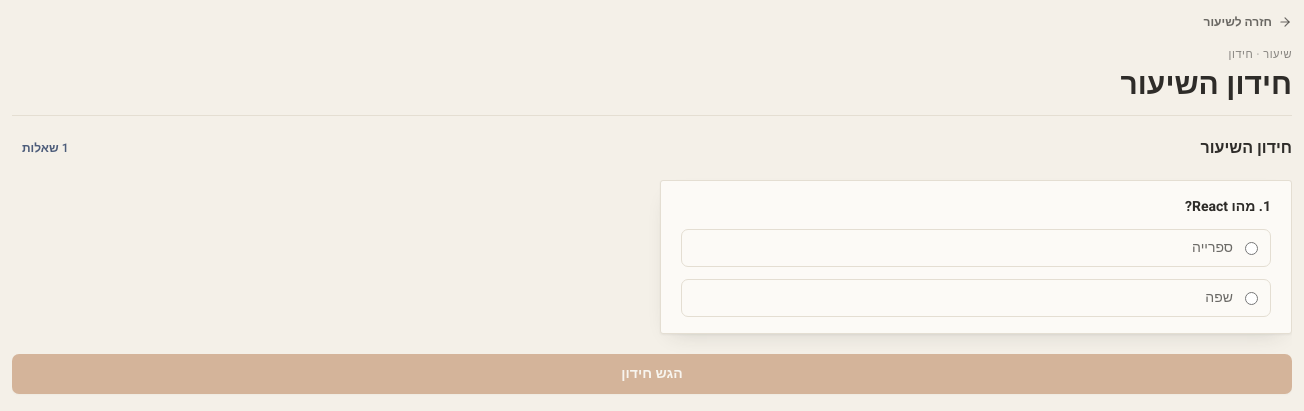
it: QuizPage › disables submit until every question is answered
Check: the button "הגש חידון" is disabled, box [12,354,1292,394]
Step 1. Click the radio button labelled "ספרייה" → [1252, 248], box [1245,242,1258,255]
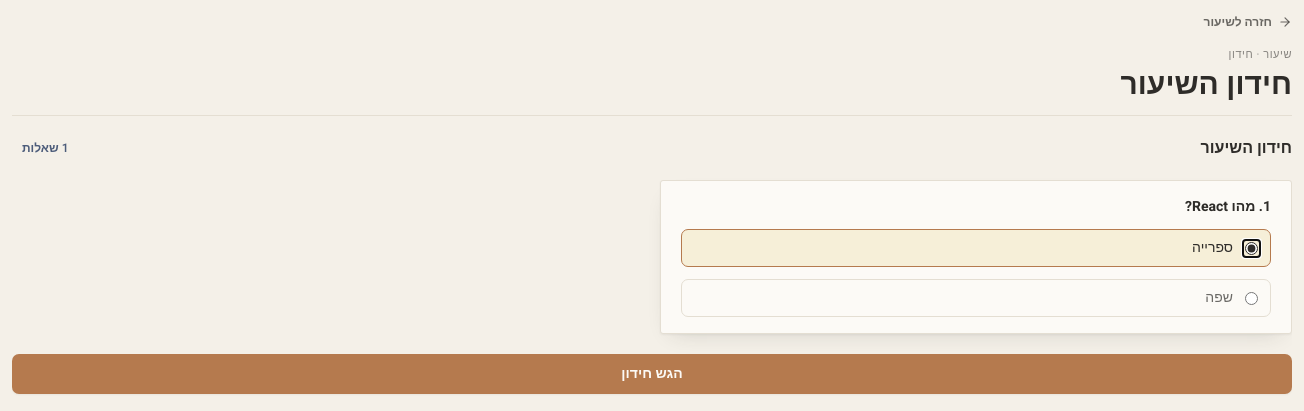
Check: the button "הגש חידון" is enabled, box [12,354,1292,394]
